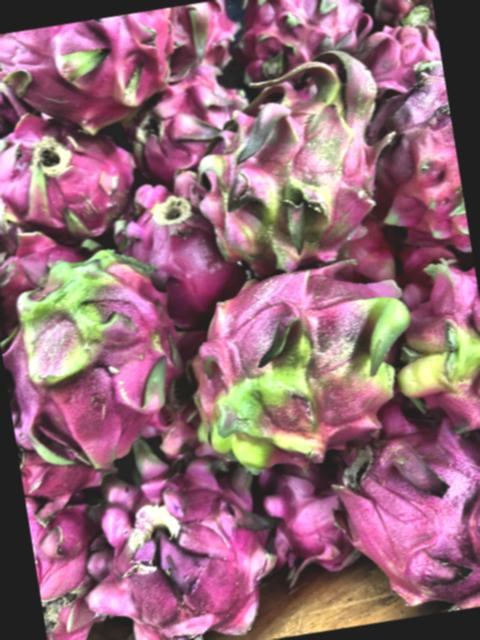buah-naga-belum-matang: (172, 246, 439, 480), (184, 42, 403, 279), (0, 238, 188, 467), (380, 241, 480, 437)
buah-naga-matang: (73, 458, 290, 640), (328, 413, 480, 624), (0, 7, 184, 137), (0, 102, 138, 244), (102, 168, 240, 308), (362, 65, 468, 244), (250, 450, 365, 580), (27, 496, 124, 640), (118, 70, 242, 176), (230, 0, 376, 80), (360, 16, 445, 93), (0, 234, 90, 298), (360, 0, 436, 38)
